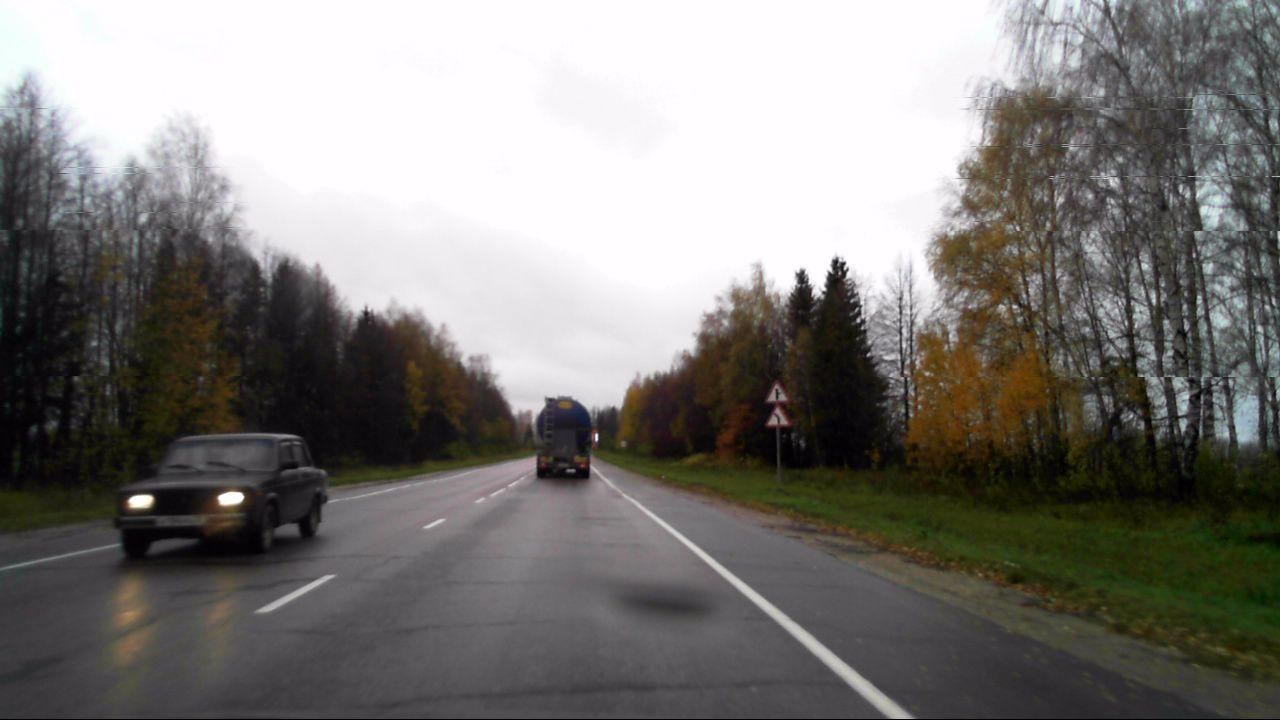road_sign: (762, 401, 795, 428), (763, 378, 795, 403)
